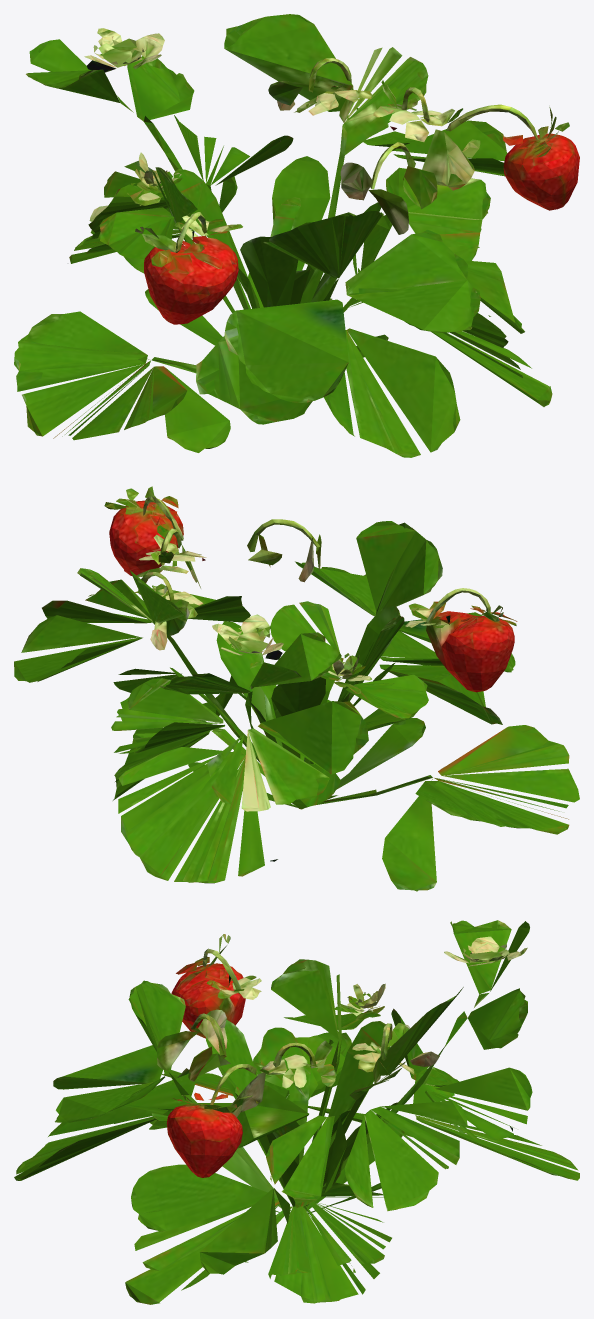
The model's file is strawberry_3.glb.
3 views of the same model, one above another, from view 1: azimuth 30°, elevation 25°; view 2: azimuth 150°, elevation 25°; view 3: azimuth 270°, elevation 25° (orthographic). The views are drawn at different scales.
Visible parts, largest first — view 1: world; view 2: world; view 3: world.
Part boxes in pixels (x1,y1,x2,y2): world: (14, 14, 579, 457); world: (14, 486, 579, 891); world: (14, 920, 579, 1304).
Bounding box in the file's own units: 1.86 × 0.9883 × 1.91.
1 material, 1 textured.
